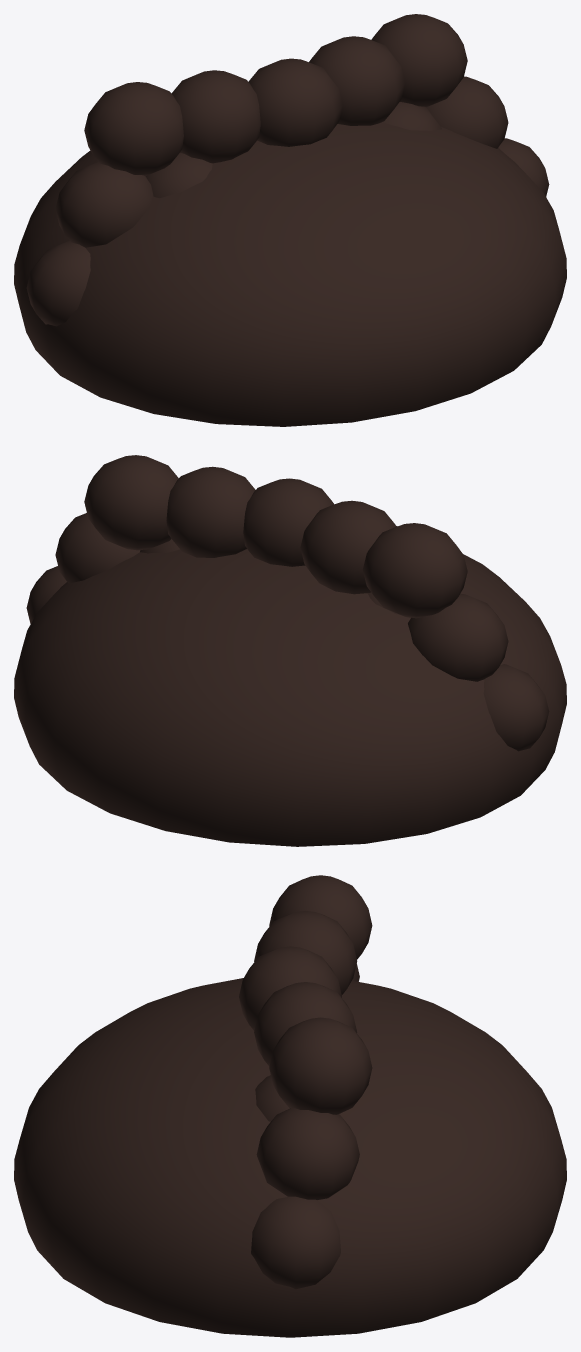
The model's file is curl-cloud.glb.
The picture shows the model from 3 angles, top to bottom: view 1: azimuth 30°, elevation 25°; view 2: azimuth 150°, elevation 25°; view 3: azimuth 270°, elevation 25°; orthographic projection. The views are drawn at different scales.
Parts seen in each view (by area): view 1: hair.curl-cloud.hair; view 2: hair.curl-cloud.hair; view 3: hair.curl-cloud.hair.
Boxes of the visible parts, x1,y1,x2,y2 form: hair.curl-cloud.hair: (14, 14, 566, 426); hair.curl-cloud.hair: (14, 455, 566, 846); hair.curl-cloud.hair: (14, 875, 566, 1337).
Bounding box in the file's own units: 0.77 × 0.3691 × 0.69.
